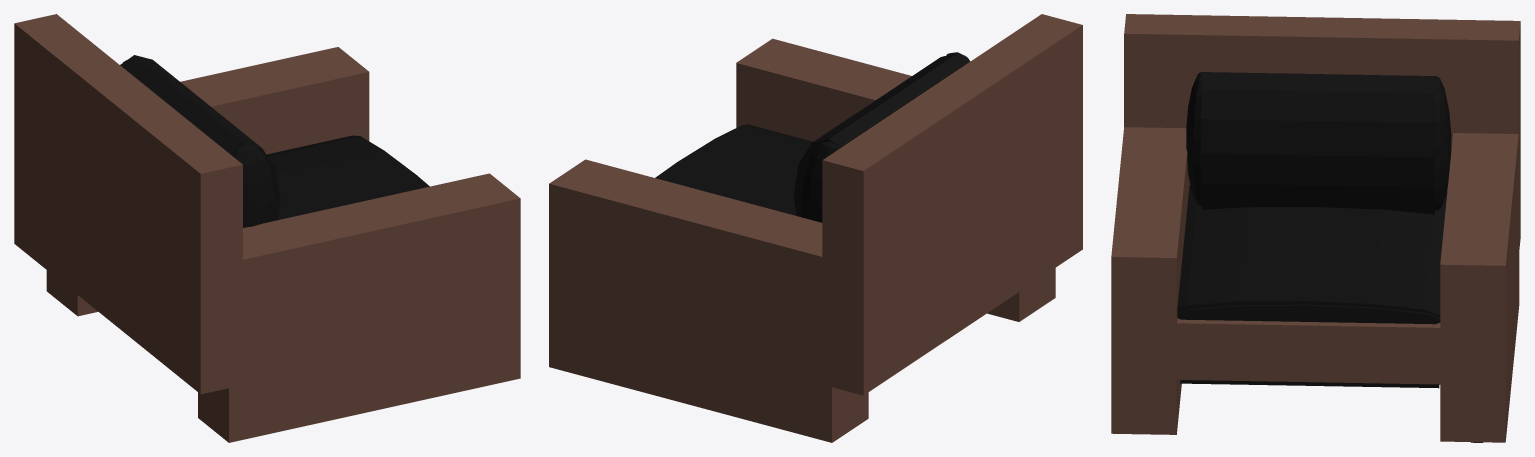
Rendered from Chair.gltf.
3 views of the same model, side by side, from view 1: azimuth 30°, elevation 25°; view 2: azimuth 150°, elevation 25°; view 3: azimuth 270°, elevation 25° (orthographic). The views are drawn at different scales.
Visible parts, largest first — view 1: node_MeshObject1482809344-PolyPaper21; view 2: node_MeshObject1482809344-PolyPaper21; view 3: node_MeshObject1482809344-PolyPaper21.
Boxes of the visible parts, <box> form: node_MeshObject1482809344-PolyPaper21: <box>14,14,520,442</box>; node_MeshObject1482809344-PolyPaper21: <box>549,14,1082,442</box>; node_MeshObject1482809344-PolyPaper21: <box>1111,14,1520,442</box>.
Size of the model in its own units: 0.2403 by 0.2 by 0.2623.
